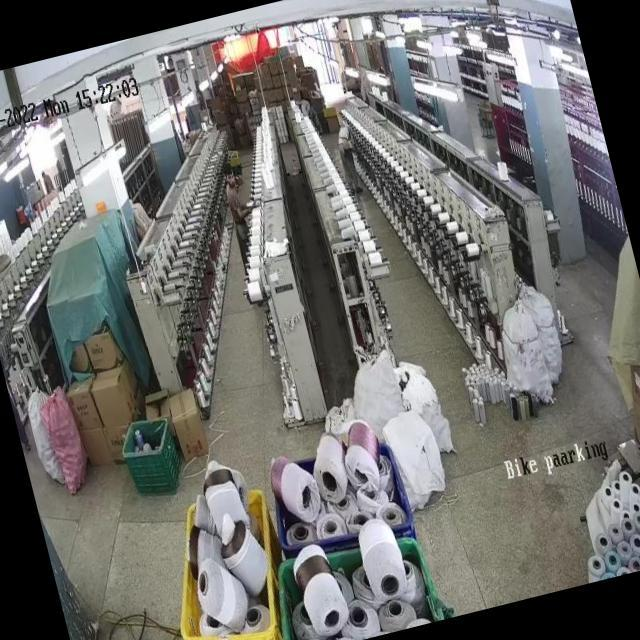person: (218, 156, 255, 245), (330, 120, 366, 201)
